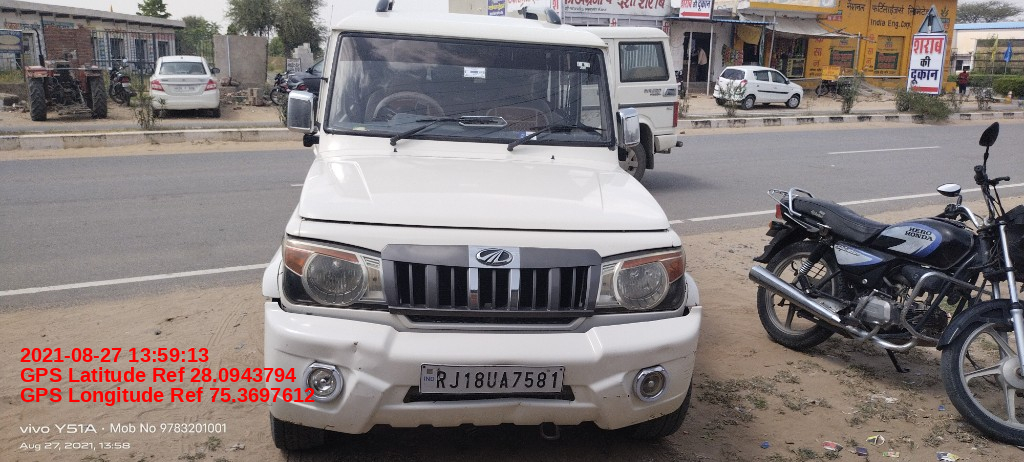Cracked: (321, 423, 340, 432)
Pressed: (347, 337, 364, 373)
Scratched: (634, 408, 669, 423), (601, 390, 609, 403), (615, 390, 623, 401), (625, 390, 633, 400)
